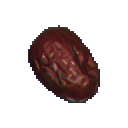gd: (21, 19, 114, 120)
